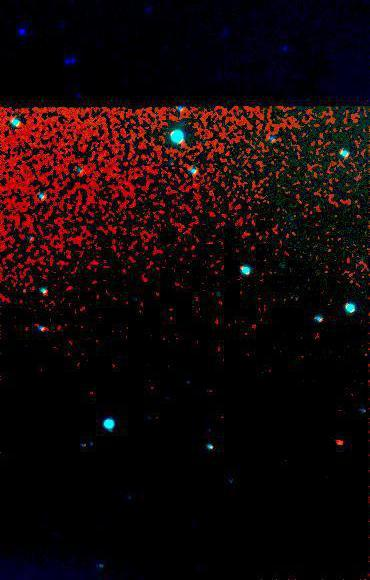star: (324, 429, 354, 459)
